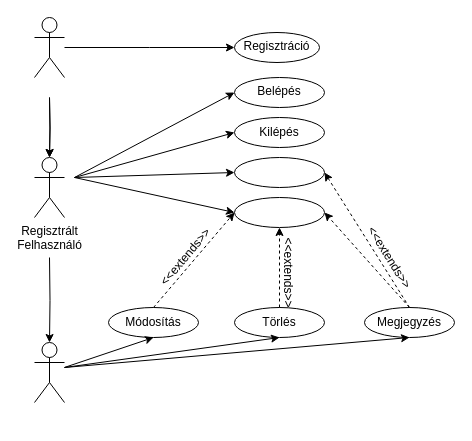
Some shapes in this 472 by 441 pixel diagram are drawn without their labels. Each missing label, with the centre of its shape:
"Admin" goes at point 49,372.
"Felhasználó" goes at point 49,47.
"Kép Feltöltés" goes at point 279,212.
"Vásárlás" goes at point 279,172.
